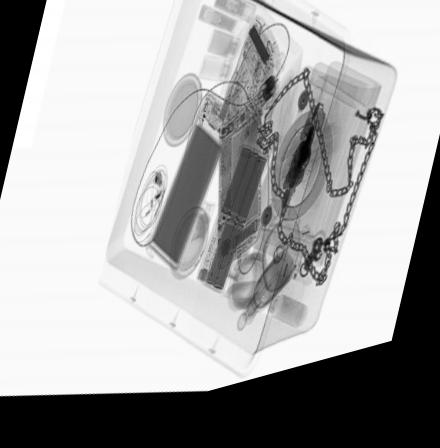Powerbank: (144, 94, 238, 285), (194, 153, 272, 307)
